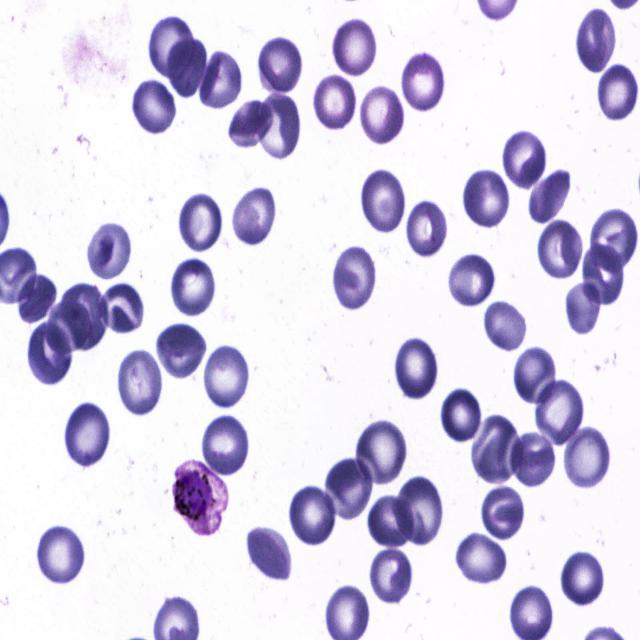difficult: (172, 459, 230, 537)
red blood cell: (472, 410, 524, 488), (533, 378, 586, 450), (64, 397, 114, 470), (60, 280, 110, 353), (116, 346, 167, 417), (394, 474, 444, 546), (356, 418, 408, 487), (34, 521, 88, 585), (154, 320, 209, 382), (562, 423, 612, 491), (203, 340, 250, 412), (322, 456, 373, 522), (589, 206, 640, 271), (169, 252, 219, 318), (200, 412, 250, 477), (254, 94, 300, 164), (460, 165, 510, 229), (332, 245, 379, 312), (331, 13, 379, 78), (26, 320, 73, 386), (230, 185, 279, 248), (535, 218, 583, 282), (358, 83, 406, 147), (394, 336, 440, 402), (454, 530, 508, 586), (575, 4, 617, 76), (196, 47, 243, 111), (289, 485, 336, 549), (447, 250, 497, 310), (360, 169, 406, 234), (258, 34, 306, 96), (508, 428, 556, 490), (148, 16, 195, 79), (86, 218, 132, 282), (479, 482, 528, 542), (175, 191, 223, 252), (514, 343, 559, 408), (130, 76, 178, 136), (503, 129, 548, 193), (403, 52, 448, 114), (529, 165, 573, 228), (560, 550, 606, 610), (582, 244, 625, 307), (596, 61, 638, 124), (43, 302, 92, 356), (367, 494, 415, 548), (246, 526, 292, 582), (439, 387, 484, 444), (312, 75, 357, 132), (166, 38, 208, 99), (368, 546, 413, 602), (99, 282, 144, 337), (484, 300, 531, 352), (407, 200, 448, 258), (228, 100, 274, 150), (564, 279, 604, 335), (17, 272, 57, 326)
